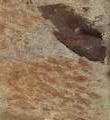Corrosion: (35, 2, 108, 66)
